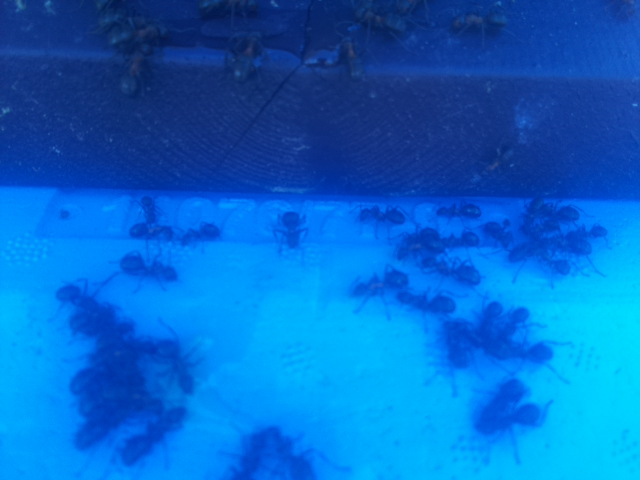ant: (471, 376, 539, 435), (219, 24, 274, 91), (268, 205, 313, 254), (297, 33, 354, 69), (436, 197, 484, 220)
